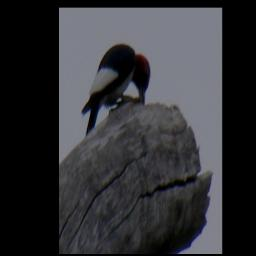Woodpecker: (79, 40, 153, 139)
